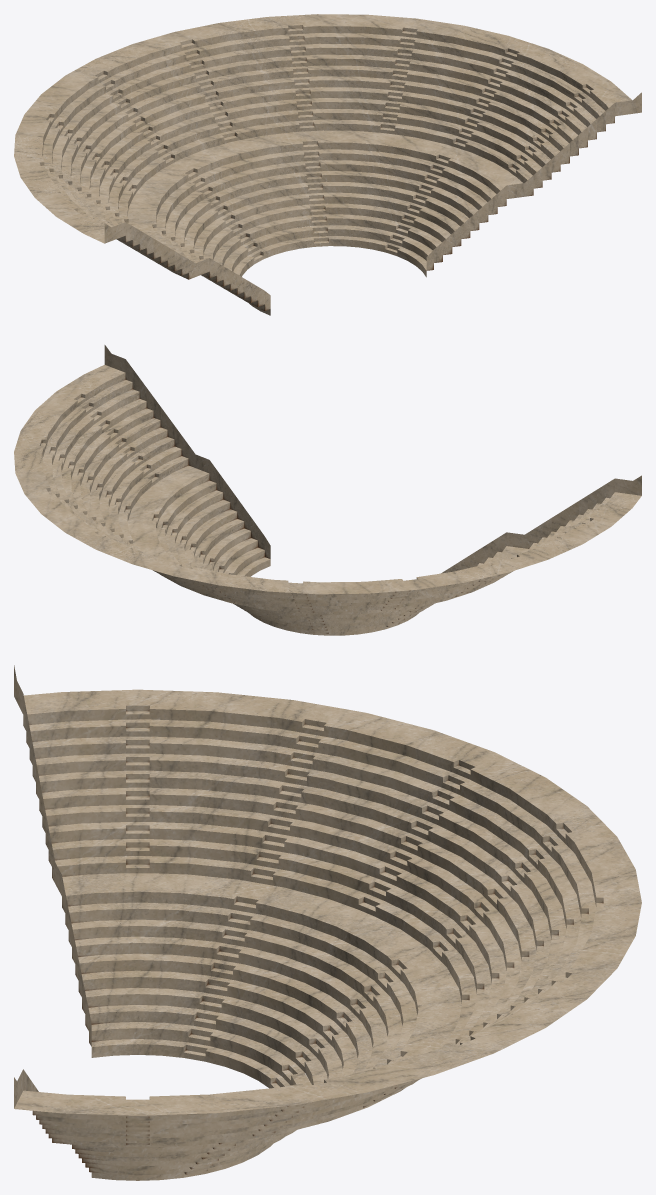
The model's file is Theater_Stairs.fbx.
3 views of the same model, one above another, from view 1: azimuth 30°, elevation 25°; view 2: azimuth 150°, elevation 25°; view 3: azimuth 270°, elevation 25° (orthographic). The views are drawn at different scales.
Visible parts, largest first — view 1: Theater_Tribune.001; view 2: Theater_Tribune.001; view 3: Theater_Tribune.001.
Boxes of the visible parts, x1,y1,x2,y2 form: Theater_Tribune.001: [14, 14, 641, 315]; Theater_Tribune.001: [14, 345, 641, 635]; Theater_Tribune.001: [14, 665, 641, 1180].
Bounding box in the file's own units: 339784 × 92000 × 211617.
